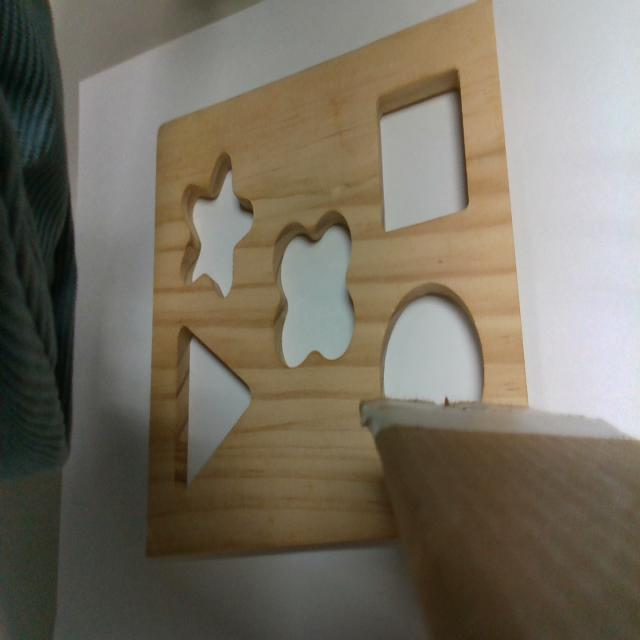circle: (379, 283, 485, 401)
flower: (271, 212, 357, 368)
square: (375, 68, 469, 236)
star: (180, 153, 254, 292)
triangle: (174, 322, 253, 496)
